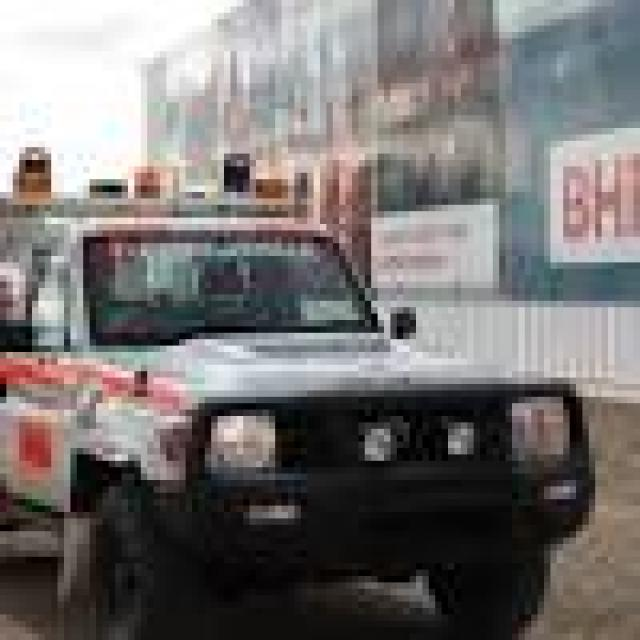light_vehicle: (0, 134, 634, 596)
